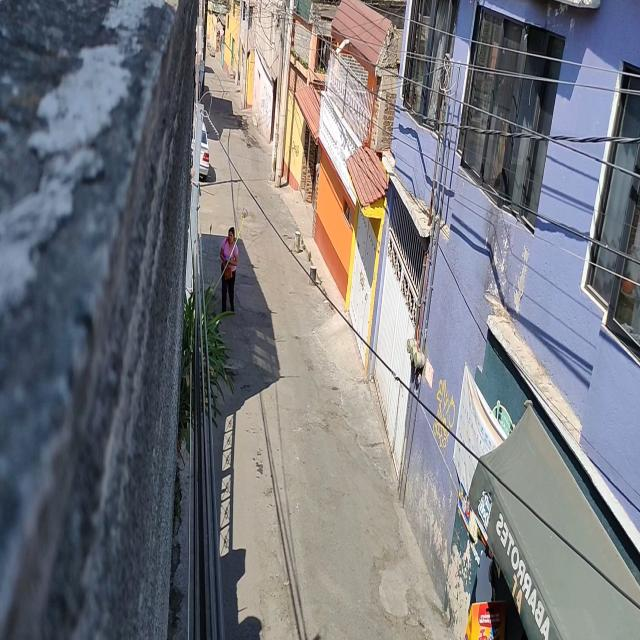adult: (220, 225, 240, 316)
